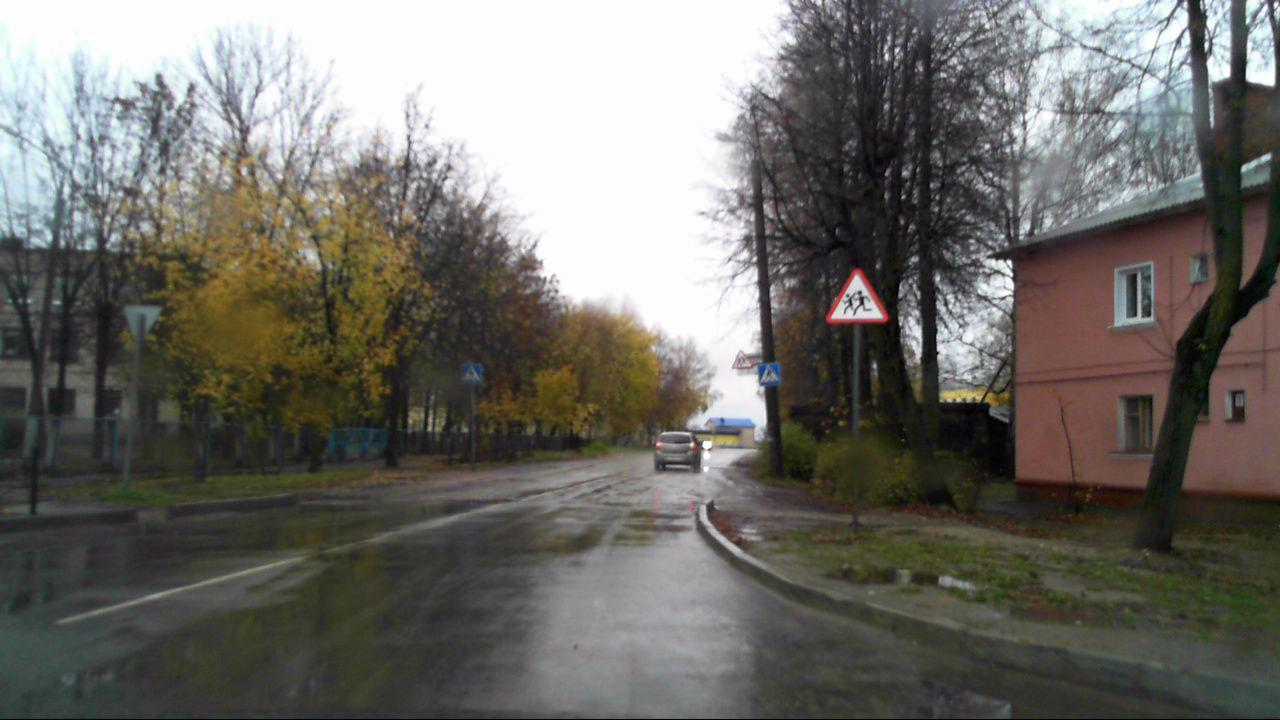1_23: (825, 268, 889, 324), (732, 350, 752, 368)
5_19_1: (759, 363, 780, 385)
5_19_2: (460, 363, 483, 384)
